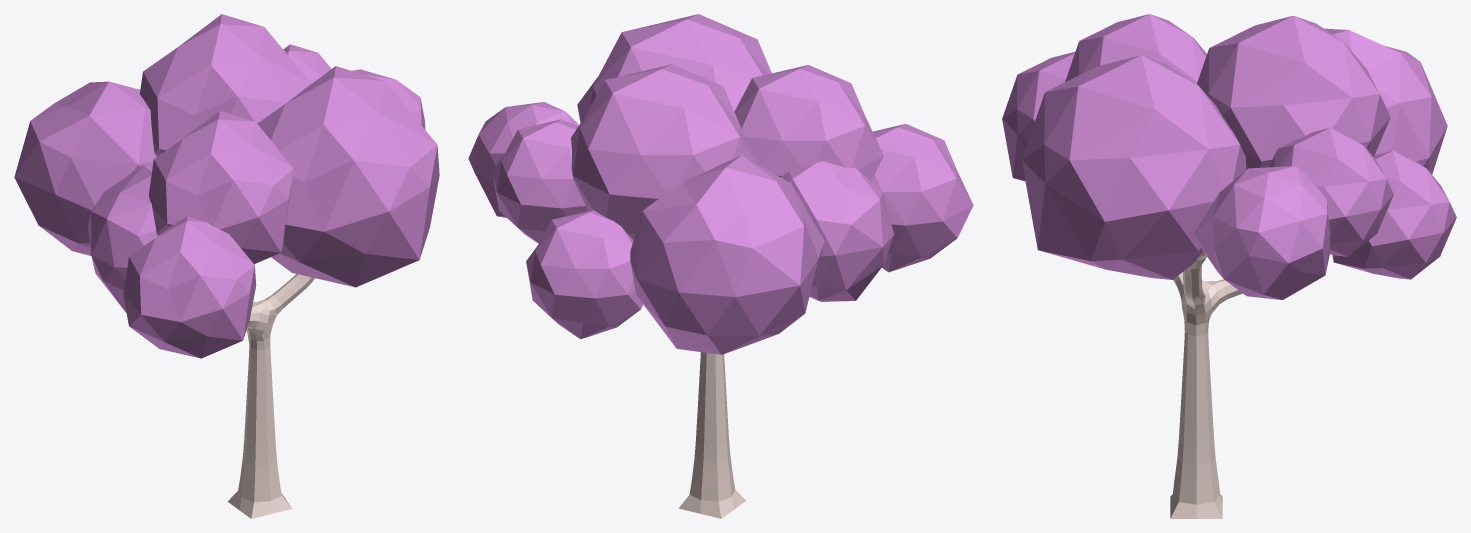
Rendered from Jacaranda.glb.
The picture shows the model from 3 angles, left to right: view 1: azimuth 30°, elevation 25°; view 2: azimuth 150°, elevation 25°; view 3: azimuth 270°, elevation 25°; orthographic projection. The views are drawn at different scales.
Parts seen in each view (by area): view 1: 平面; view 2: 平面; view 3: 平面.
Part boxes in pixels (x1=…): 平面: x1=14, y1=14, x2=439, y2=518; 平面: x1=468, y1=14, x2=973, y2=518; 平面: x1=1002, y1=14, x2=1456, y2=518.
Bounding box in the file's own units: 7.16 × 8.14 × 6.79.
